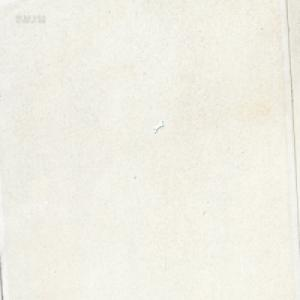Wrench: (153, 120, 163, 133)
